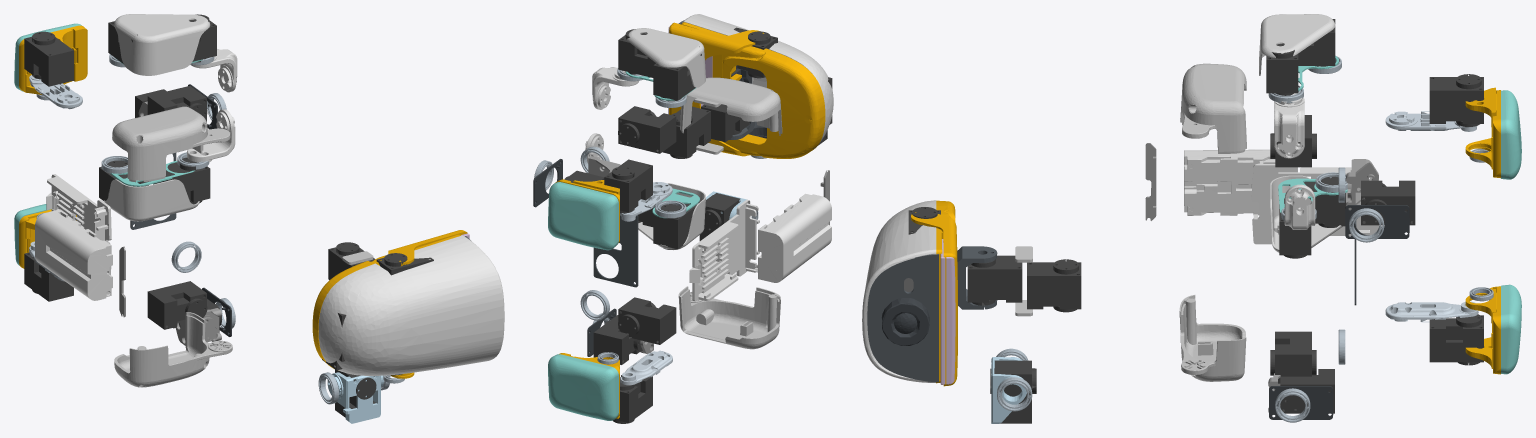
The model's file is microduck_exploded_assembly.obj.
The picture shows the model from 3 angles, left to right: view 1: azimuth 30°, elevation 25°; view 2: azimuth 150°, elevation 25°; view 3: azimuth 270°, elevation 25°; orthographic projection. The views are drawn at different scales.
Visible parts, largest first — view 1: top_head_shell_43, left_shell_09, np_f970_07, upper_leg_left_17, right_shell_02, upper_leg_right_63, power_support_06, xl330_23, xl330_08, yaw_roll_motion_34, xl330_65, xl330_05 (+16 smaller); view 2: bottom_head_shell_50, right_shell_02, np_f970_07, power_support_06, sole_left_24, sole_right_68, left_shell_09, upper_leg_left_17, xl330_05, xl330_08, top_head_shell_43, jaw_49 (+26 smaller); view 3: face_part_39, left_shell_09, np_f970_07, right_shell_02, top_head_shell_43, xl330_29, upper_leg_left_17, xl330_23, power_support_06, xl330_30, xl330_65, xl330_08 (+33 smaller).
Boxes of the visible parts, x1,y1,x2,y2 form: top_head_shell_43: (318, 235, 504, 375); left_shell_09: (112, 106, 230, 182); np_f970_07: (35, 209, 112, 300); upper_leg_left_17: (114, 14, 210, 75); right_shell_02: (114, 312, 232, 387); upper_leg_right_63: (104, 179, 199, 221); power_support_06: (46, 174, 111, 274); xl330_23: (24, 31, 73, 86); xl330_08: (147, 281, 207, 329); yaw_roll_motion_34: (327, 372, 383, 423); xl330_65: (24, 252, 73, 301); xl330_05: (147, 85, 207, 121); bottom_head_shell_50: (681, 22, 825, 158); right_shell_02: (678, 286, 780, 349); np_f970_07: (758, 193, 831, 282); power_support_06: (689, 199, 759, 301); sole_left_24: (548, 182, 618, 250); sole_right_68: (548, 354, 618, 420); left_shell_09: (680, 77, 782, 135); upper_leg_left_17: (627, 28, 705, 87); xl330_05: (618, 106, 676, 153); xl330_08: (618, 297, 676, 344); top_head_shell_43: (682, 14, 833, 141); jaw_49: (669, 22, 763, 156); face_part_39: (867, 254, 938, 382); left_shell_09: (1180, 63, 1246, 153); np_f970_07: (1184, 149, 1297, 215); right_shell_02: (1179, 295, 1246, 381); top_head_shell_43: (862, 200, 936, 382); xl330_29: (1027, 259, 1081, 312); upper_leg_left_17: (1259, 14, 1335, 75); xl330_23: (1429, 74, 1483, 126); power_support_06: (1251, 161, 1378, 244); xl330_30: (967, 255, 1022, 305); xl330_65: (1429, 314, 1483, 365); xl330_08: (1270, 331, 1316, 383).
Size of the model in its own units: 0.2235 by 0.246 by 0.4112.
